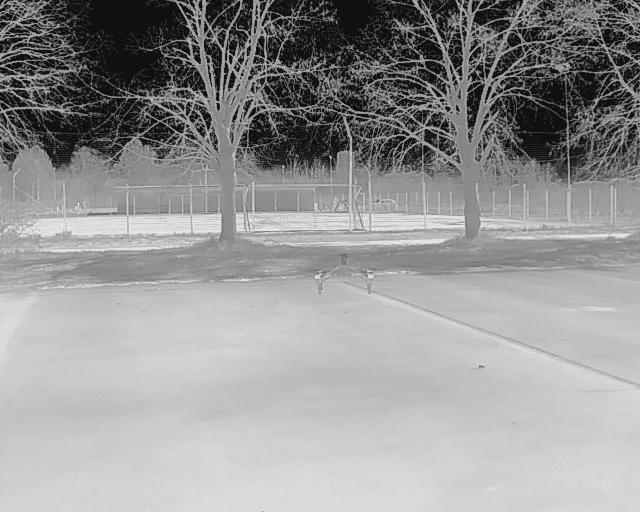drone: (310, 229, 383, 315)
